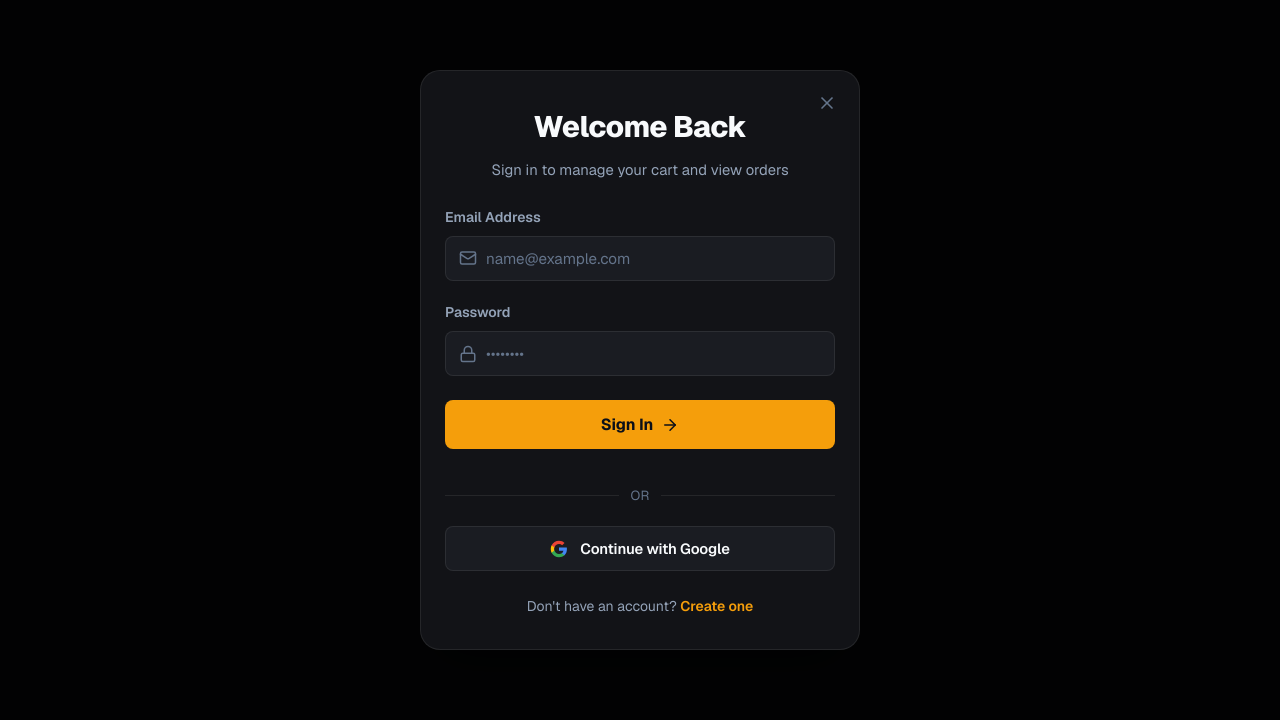
Test: Phase 2: Authentication Frontend Tests › T-AUTH-UI-03: Server error messages display in an alert banner
Type "wrong@example.com" into the field with placeholder "name@example.com".
click(640, 258); type("wrong@example.com")  # box [445,236,835,281]
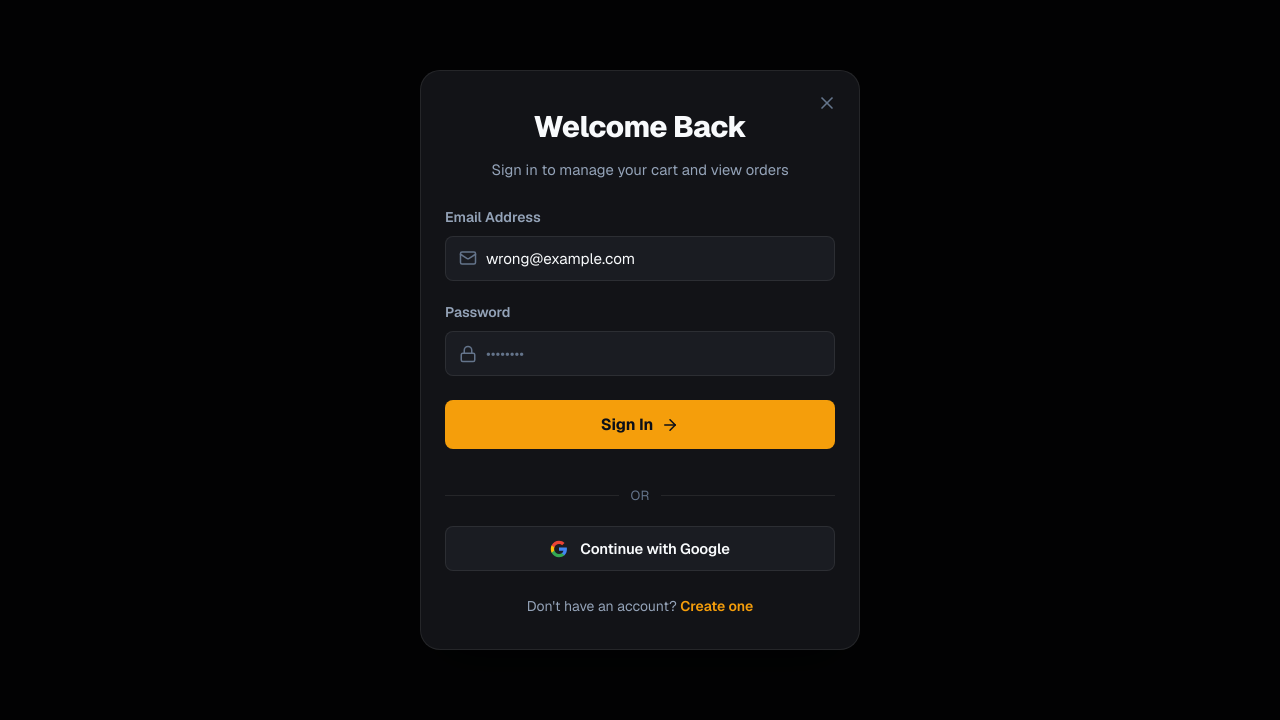
Type "wrongpass" into the password field with placeholder "••••••••".
click(640, 354); type("wrongpass")  # box [445,331,835,376]
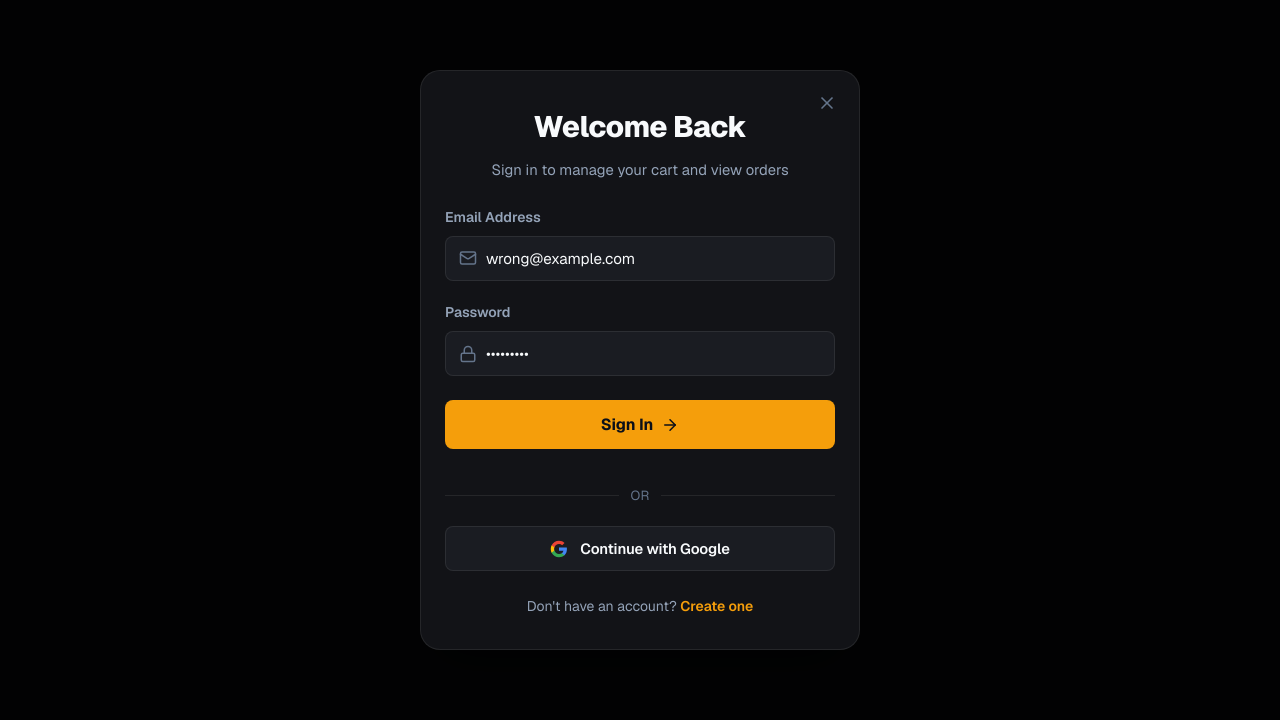
Click the button "Sign In".
click(640, 425)  # box [445,400,835,449]
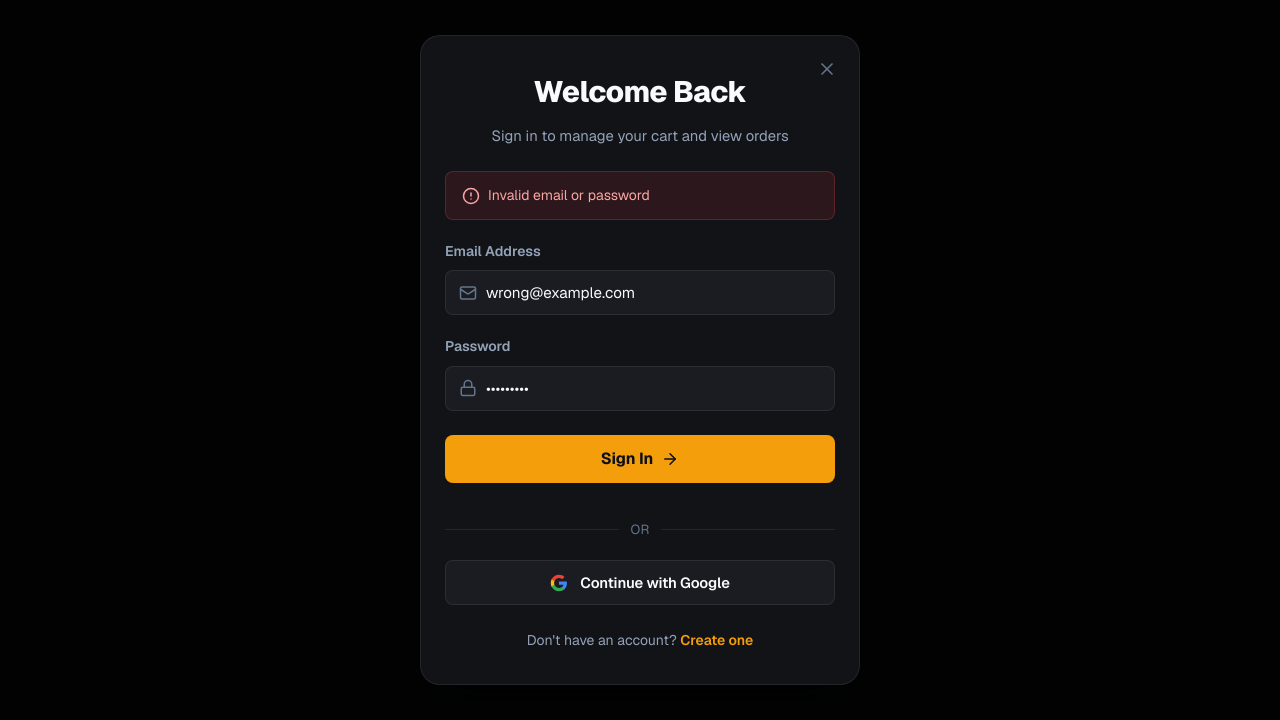
Expected: the message reads "Invalid email or password", [488,186,650,204]
